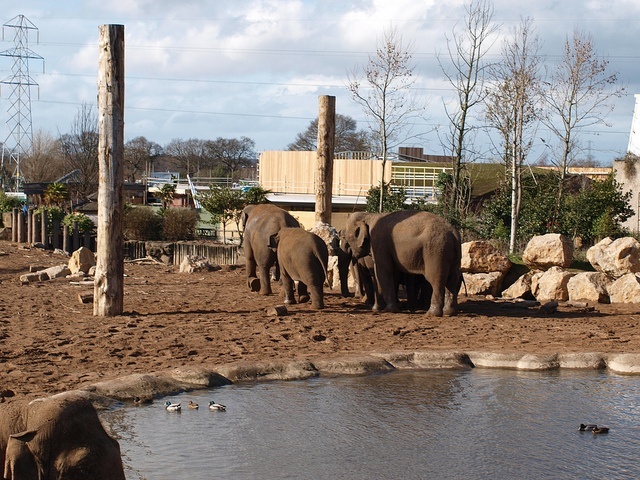elephant: (338, 208, 461, 316), (236, 204, 304, 297), (268, 228, 328, 310)
